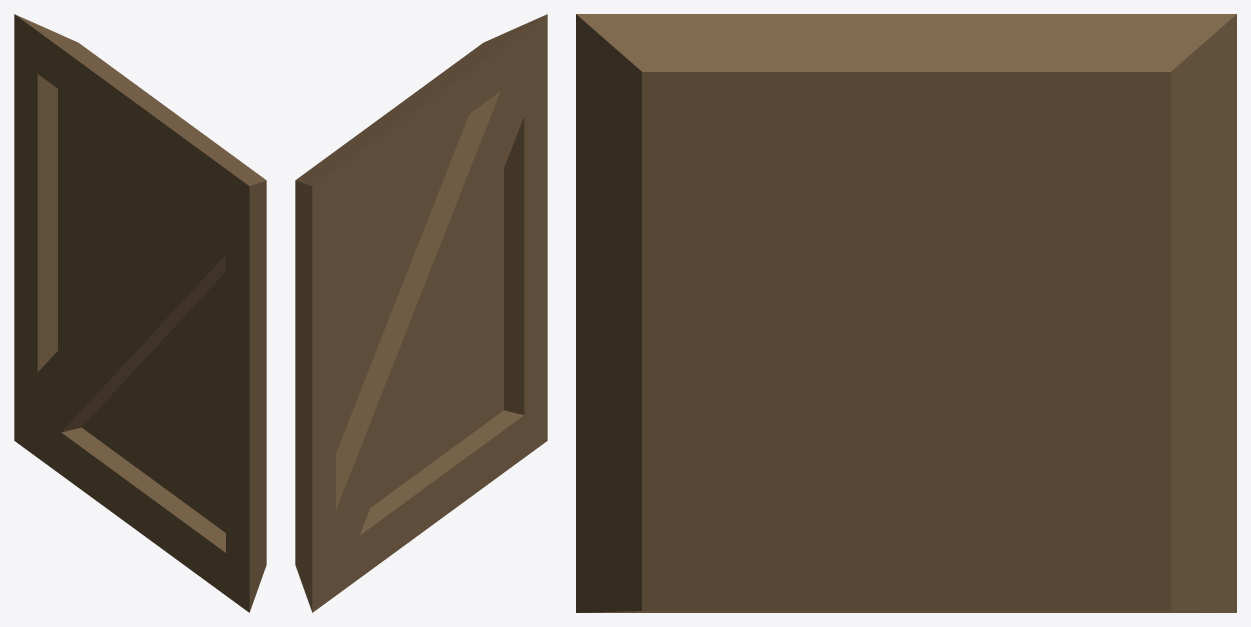
The model's file is crate_face02_broken.fbx.
The picture shows the model from 3 angles, left to right: view 1: azimuth 30°, elevation 25°; view 2: azimuth 150°, elevation 25°; view 3: azimuth 270°, elevation 25°; orthographic projection. The views are drawn at different scales.
Parts seen in each view (by area): view 1: crateFace030, crateFace019, crateFace028, crateFace021, crateFace023, crateFace024, crateFace022, crateFace026, crateFace029, crateFace025, crateFace027; view 2: crateFace030, crateFace019, crateFace021, crateFace028, crateFace023, crateFace024, crateFace022, crateFace026, crateFace029, crateFace027, crateFace020, crateFace025; view 3: crateFace030, crateFace019, crateFace023, crateFace021, crateFace028, crateFace026, crateFace022, crateFace020, crateFace024, crateFace027, crateFace029, crateFace025.
Boxes of the visible parts, x1,y1,x2,y2 form: crateFace030: (120, 92, 266, 390); crateFace019: (143, 335, 266, 595); crateFace028: (36, 313, 163, 534); crateFace021: (14, 206, 131, 417); crateFace023: (48, 81, 140, 271); crateFace024: (14, 31, 126, 283); crateFace022: (214, 160, 266, 313); crateFace026: (42, 28, 160, 103); crateFace029: (14, 388, 40, 459); crateFace025: (226, 570, 260, 612); crateFace027: (14, 14, 45, 55); crateFace030: (379, 40, 547, 319); crateFace019: (421, 219, 547, 517); crateFace021: (295, 297, 429, 562); crateFace028: (334, 313, 441, 588); crateFace023: (295, 166, 405, 370); crateFace024: (308, 108, 418, 377); crateFace022: (466, 14, 547, 140); crateFace026: (295, 111, 410, 201); crateFace029: (303, 558, 338, 612); crateFace027: (304, 169, 335, 228); crateFace020: (295, 519, 344, 593); crateFace025: (524, 399, 547, 457); crateFace030: (576, 14, 939, 366); crateFace019: (576, 301, 873, 612); crateFace023: (939, 53, 1220, 314); crateFace021: (908, 283, 1236, 554); crateFace028: (873, 343, 1141, 612); crateFace026: (937, 23, 1206, 101); crateFace022: (576, 14, 691, 193); crateFace020: (1096, 546, 1217, 612); crateFace024: (938, 14, 1236, 290); crateFace027: (1171, 14, 1236, 73); crateFace029: (1169, 538, 1236, 612); crateFace025: (576, 553, 638, 612).
Size of the model in its own units: 4 by 40 by 40.
